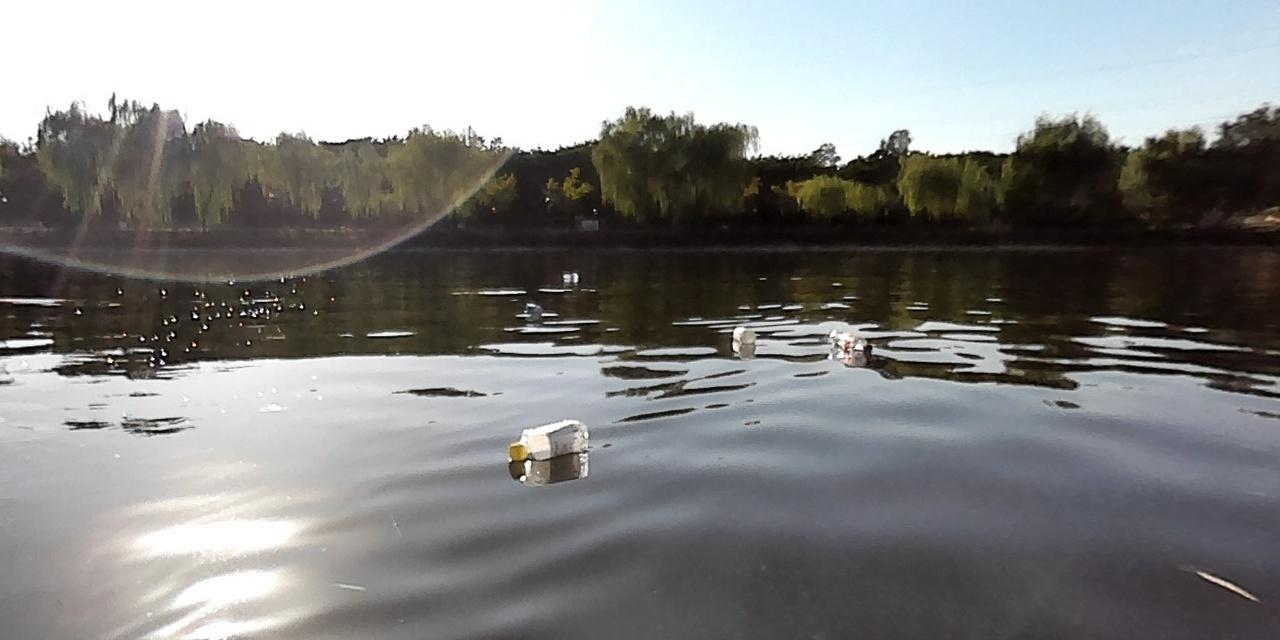bottle: (502, 414, 592, 462), (825, 319, 873, 355), (728, 324, 757, 344), (521, 300, 542, 315), (557, 270, 578, 280)
